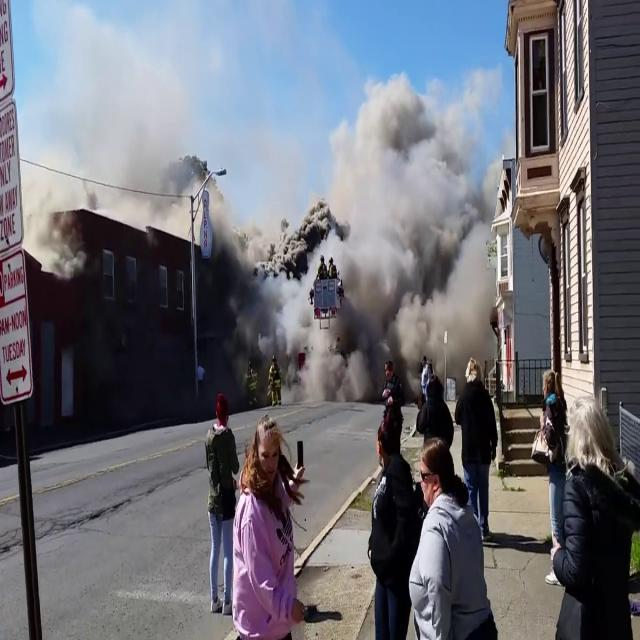Smoke: (281, 63, 501, 392)
